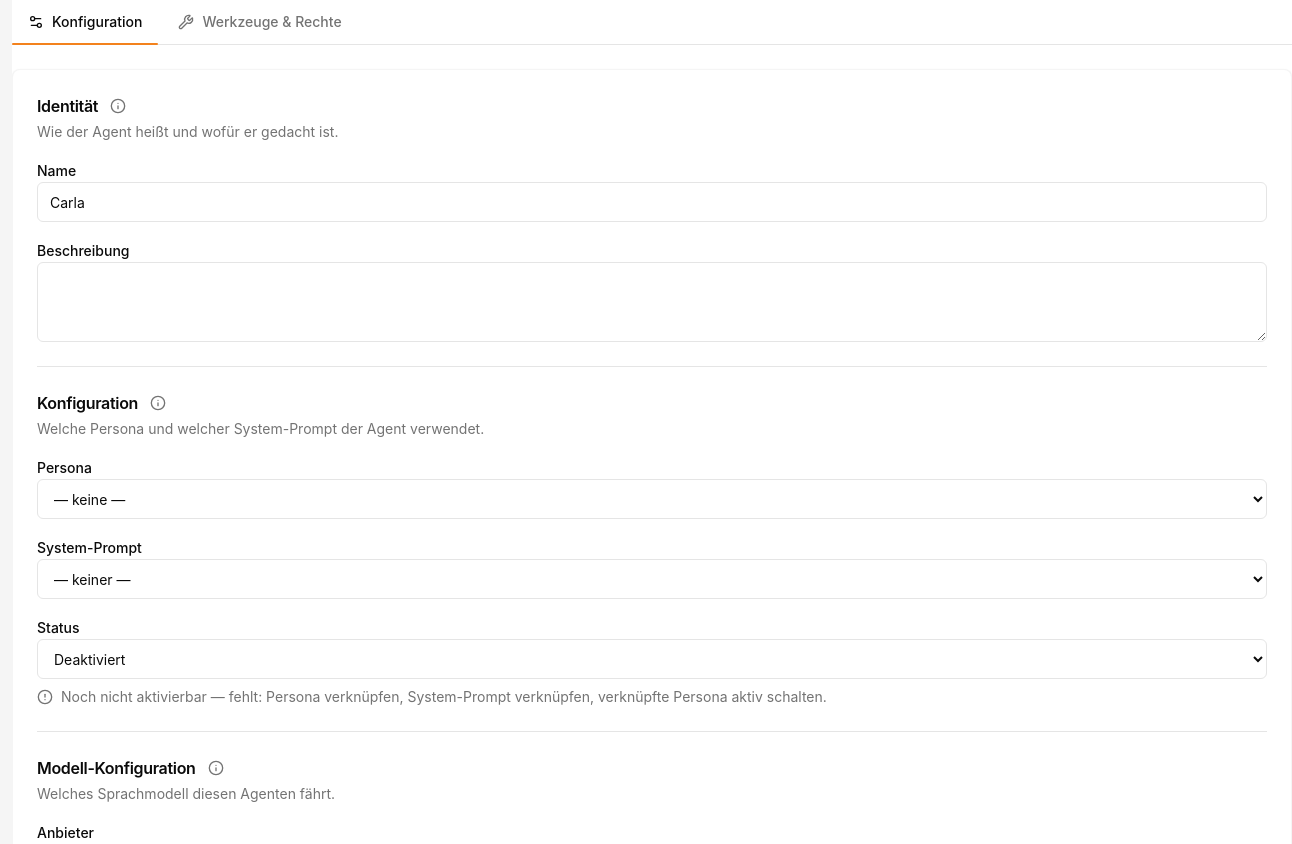
AgentEditorForm › setzt bei Preset-Klick „Editor mit Freigabe“ zusaetzlich promote_retire (Issue #394)
The width and height of the screenshot is (1292, 844).
Click the tab "Werkzeuge & Rechte" at (260, 22), box top-left (162, 0), bottom-right (358, 44)
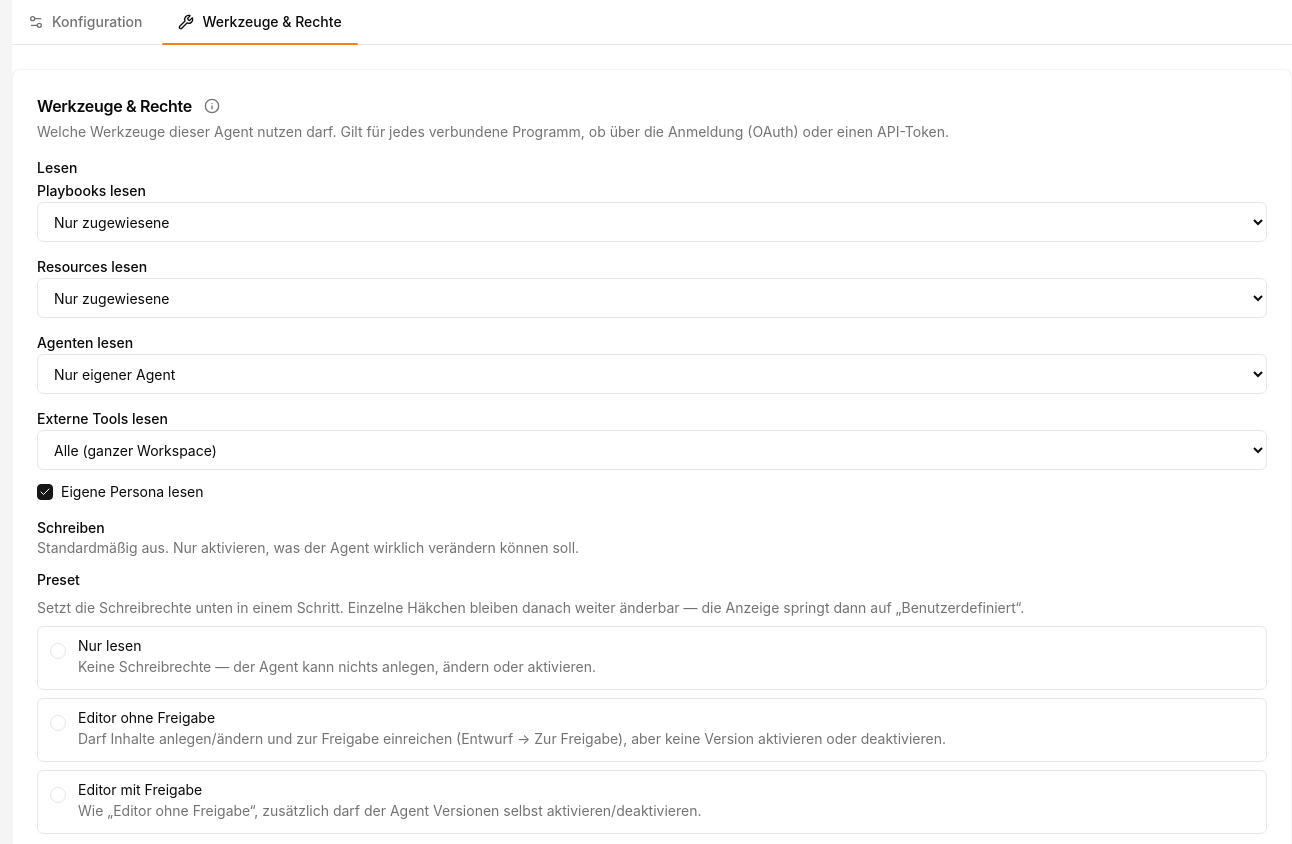
Click the radio button named "Editor mit Freigabe" next to "Editor mit Freigabe" at (58, 795), box top-left (50, 787), bottom-right (66, 803)
(page scrolled)
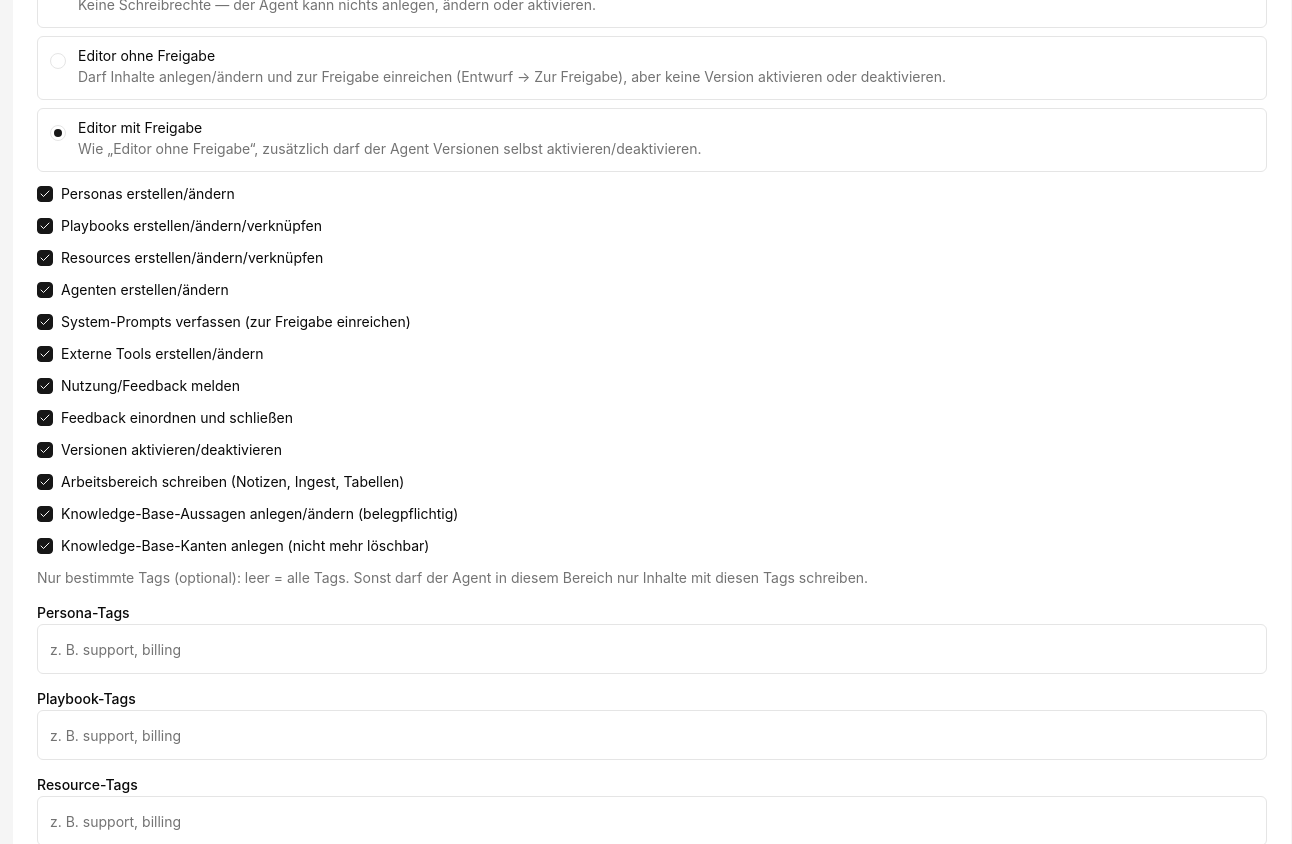
Check: the checkbox labelled "Playbooks erstellen/ändern/verknüpfen" is checked, box top-left (29, 210), bottom-right (61, 242)
Check: the checkbox labelled "Versionen aktivieren/deaktivieren" is checked, box top-left (29, 434), bottom-right (61, 466)
